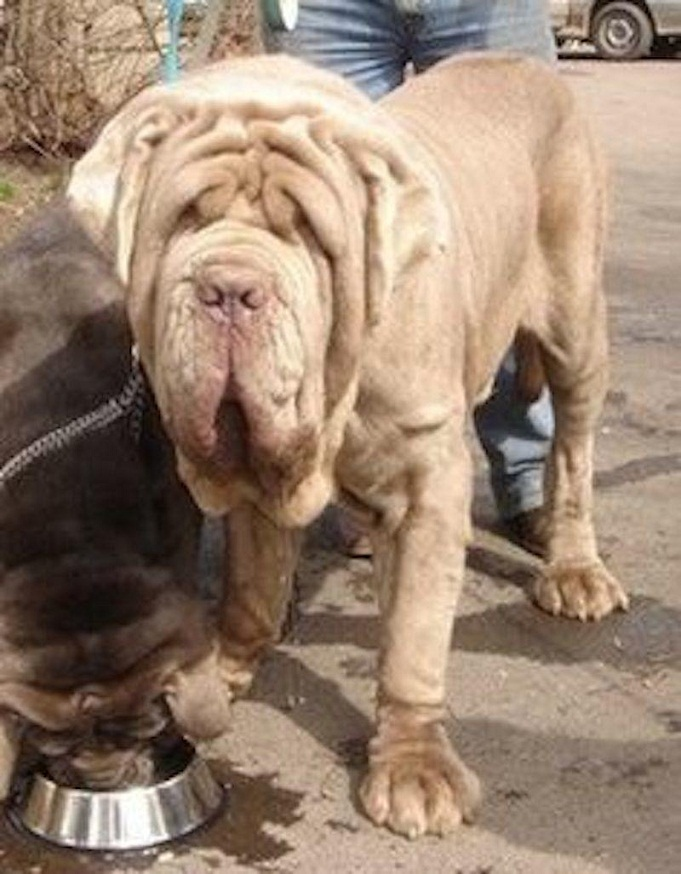neapolitan_mastiff: (71, 49, 630, 843), (0, 208, 233, 800)
person: (258, 0, 557, 556)
